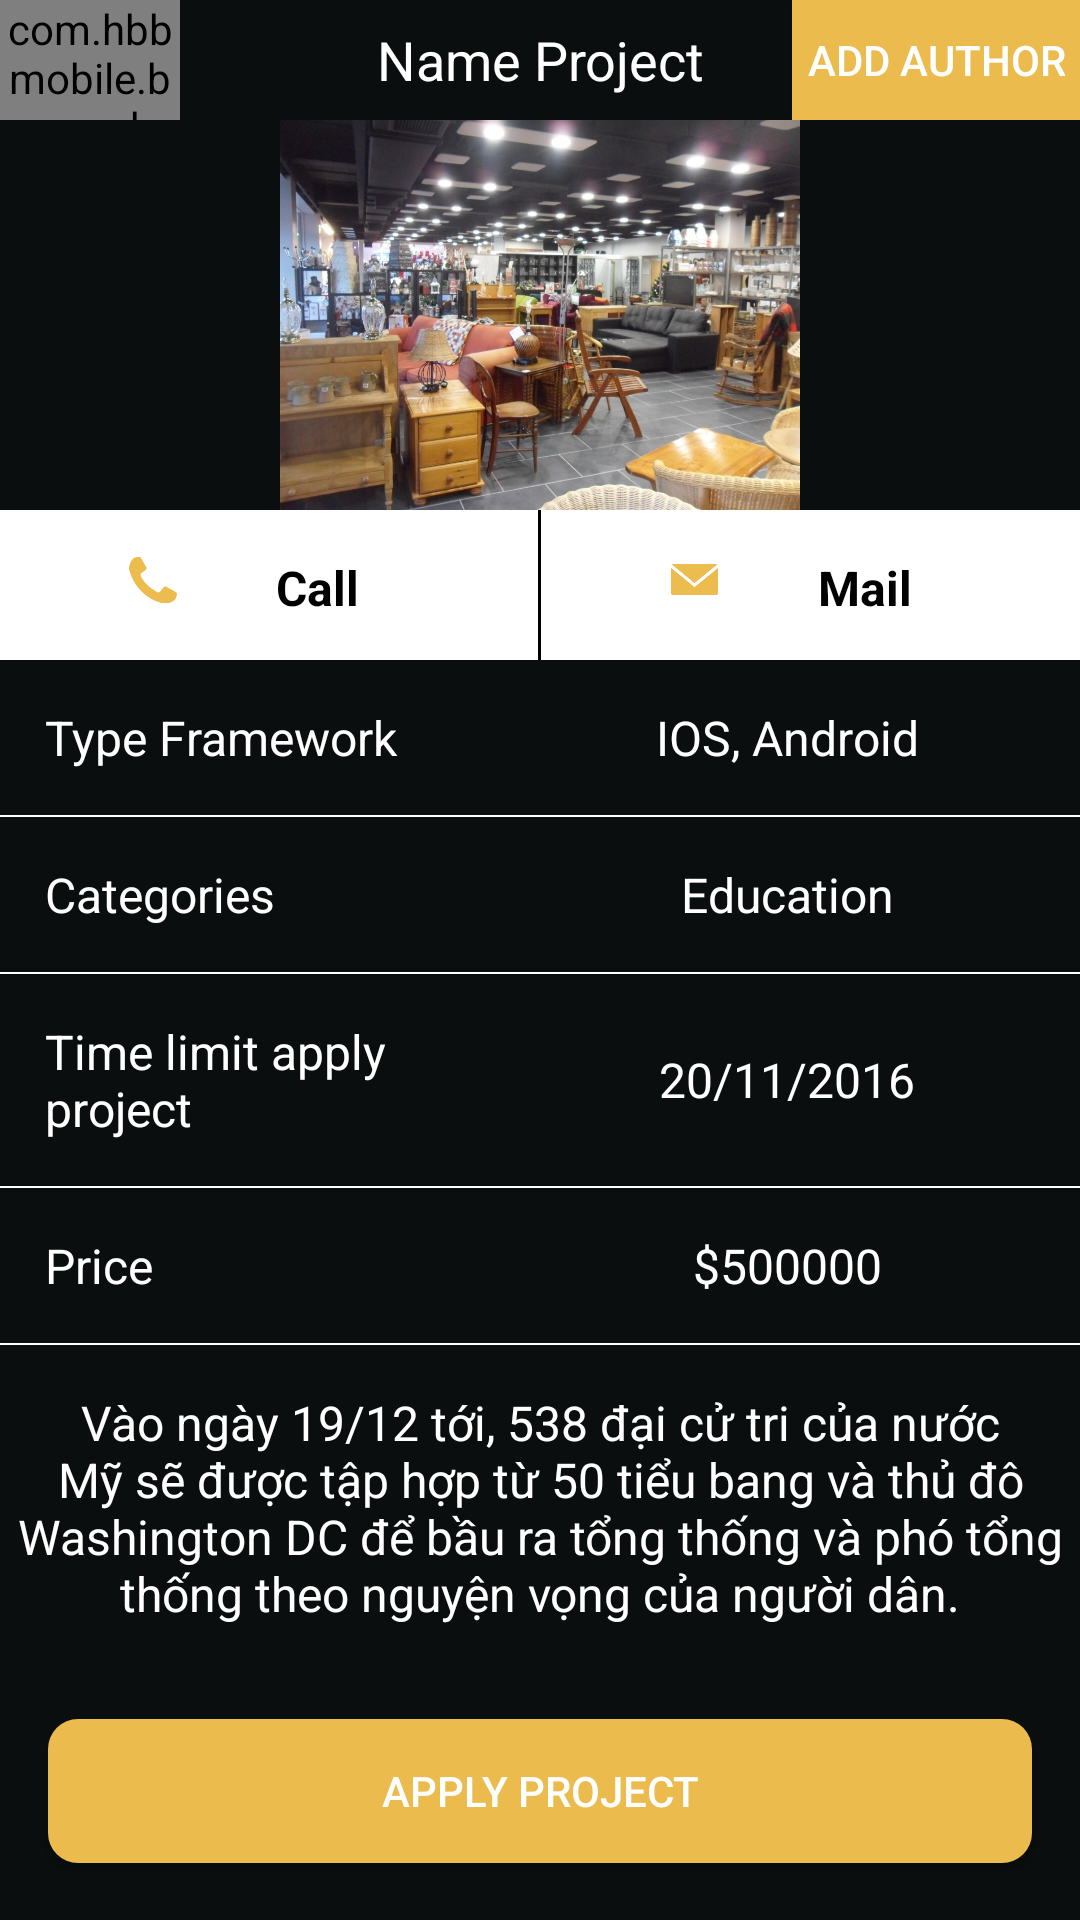

Screen size 1080w x 1920h. Icon name, then its box in pixels as [left=x1, top=y1, right=x2, bottom=y2]:
phone: [left=129, top=557, right=177, bottom=603]
